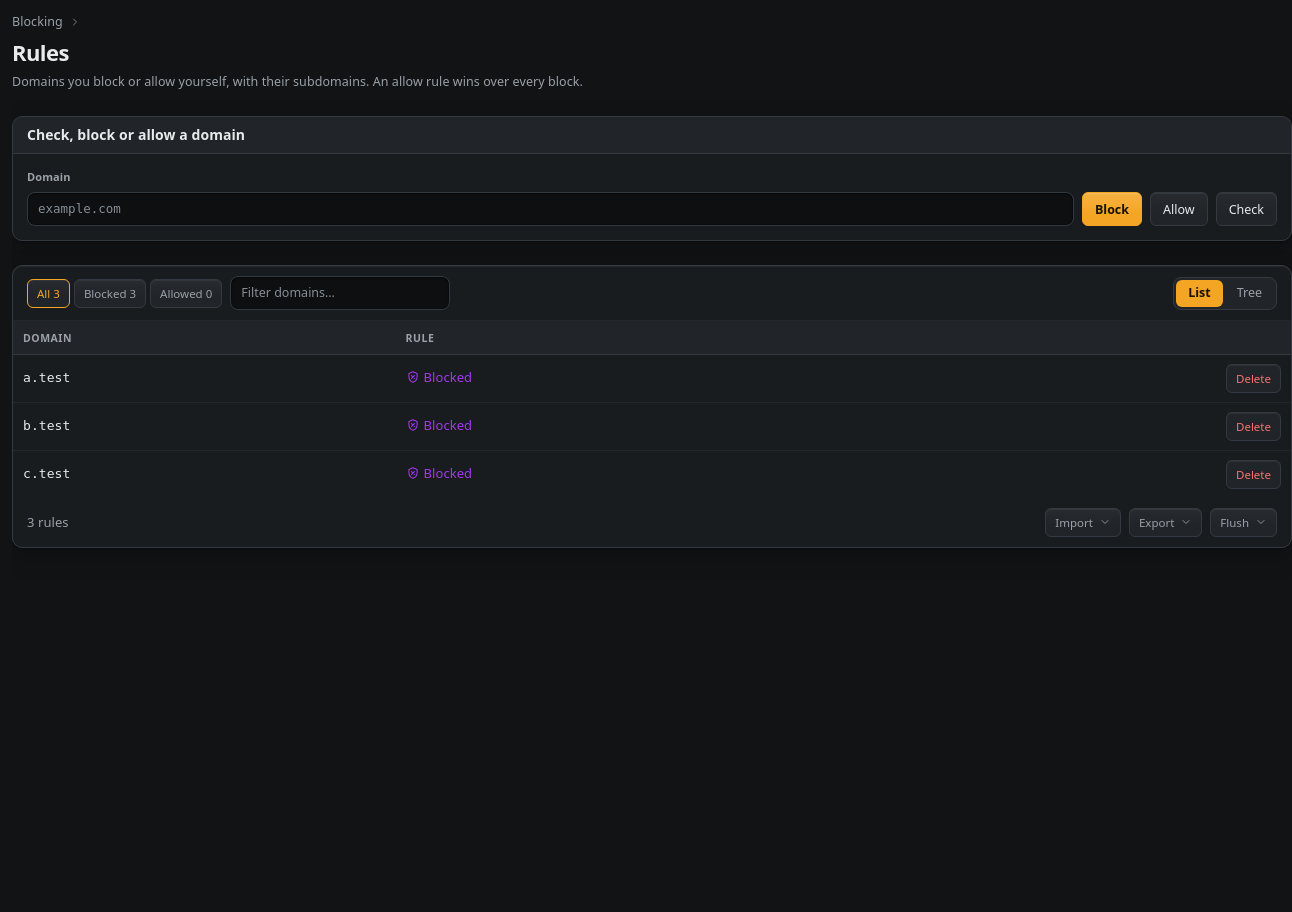
Test: Rules: Delete with Undo › an Undo that fails says which rules did not come back, and why
Click the button with aria-label "Delete a.test": (1254, 378) [1226, 364, 1281, 393]
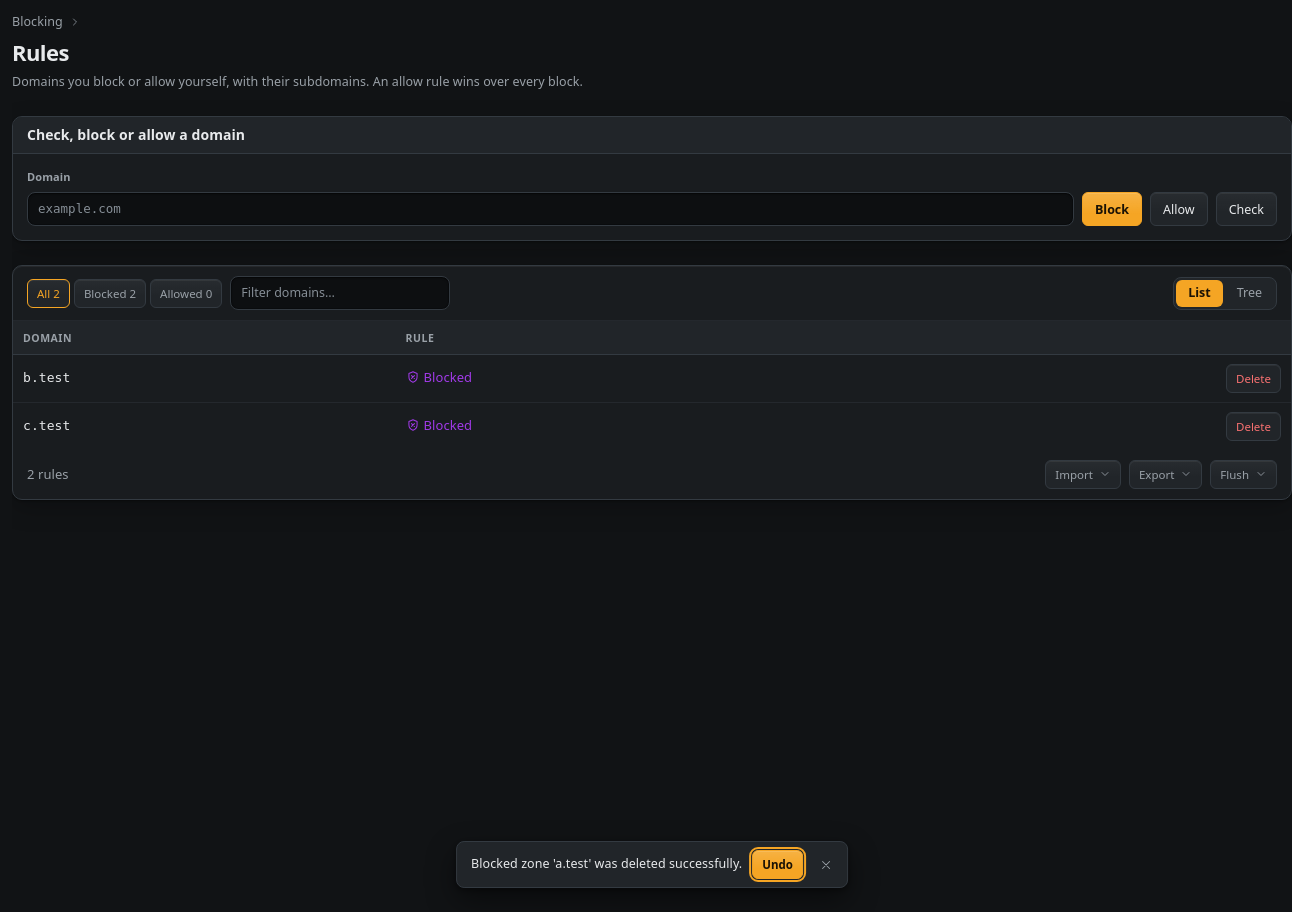
Click the button "Delete" in the row of "b.": (1254, 378) [1226, 364, 1281, 393]
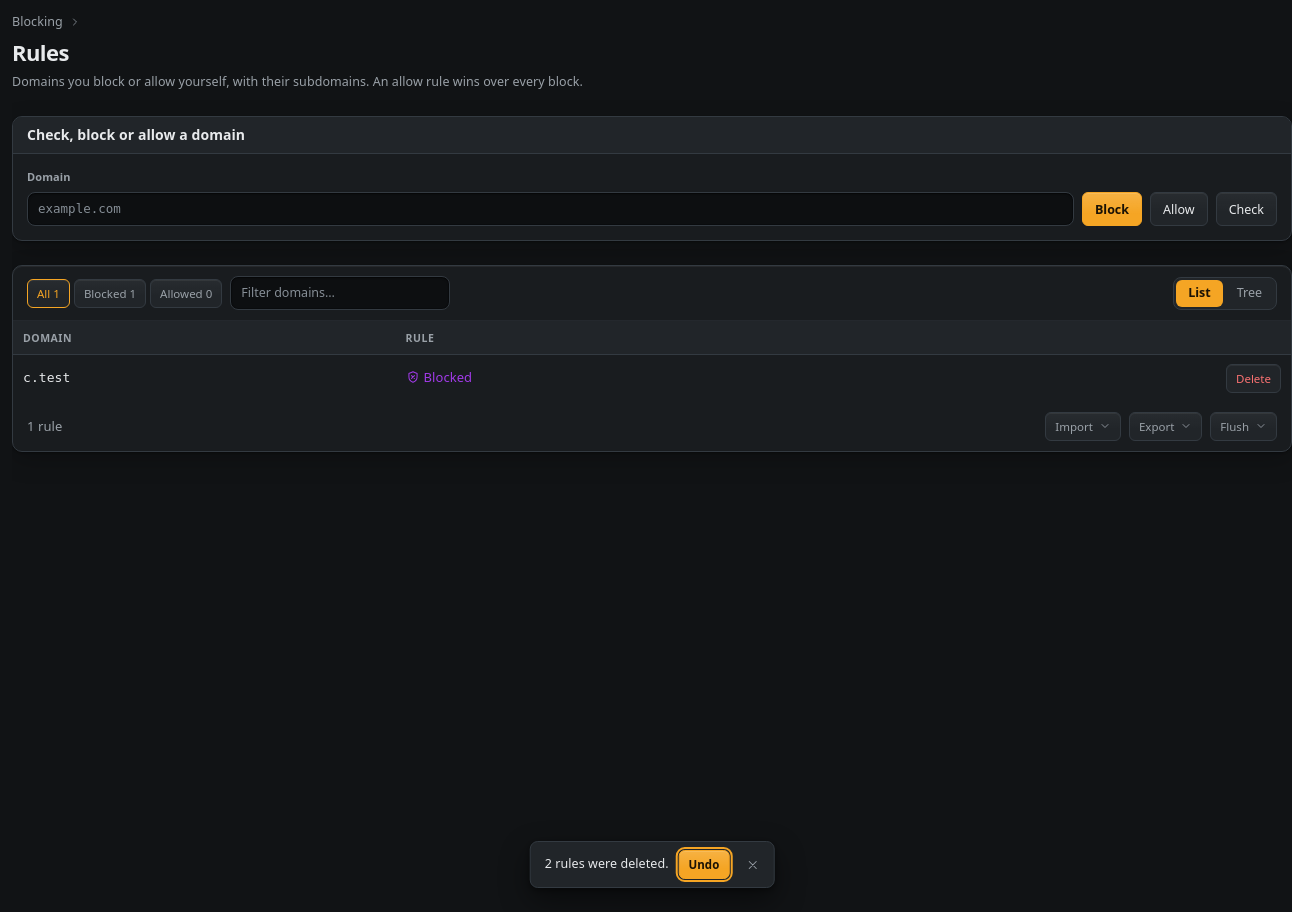
Click the button "Delete": (1254, 378) [1226, 364, 1281, 393]
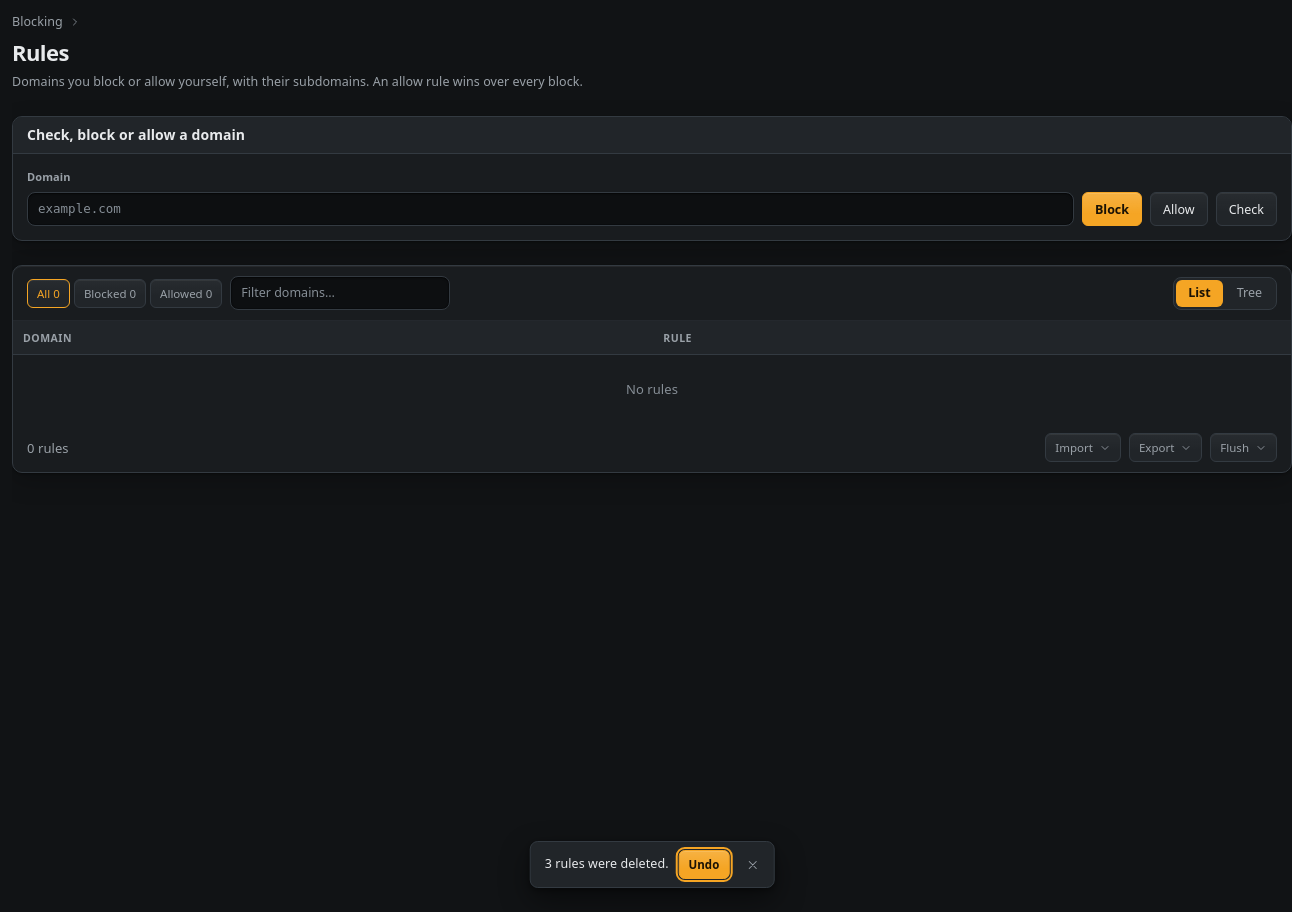
Click the button "Undo": (704, 864) [679, 850, 729, 879]
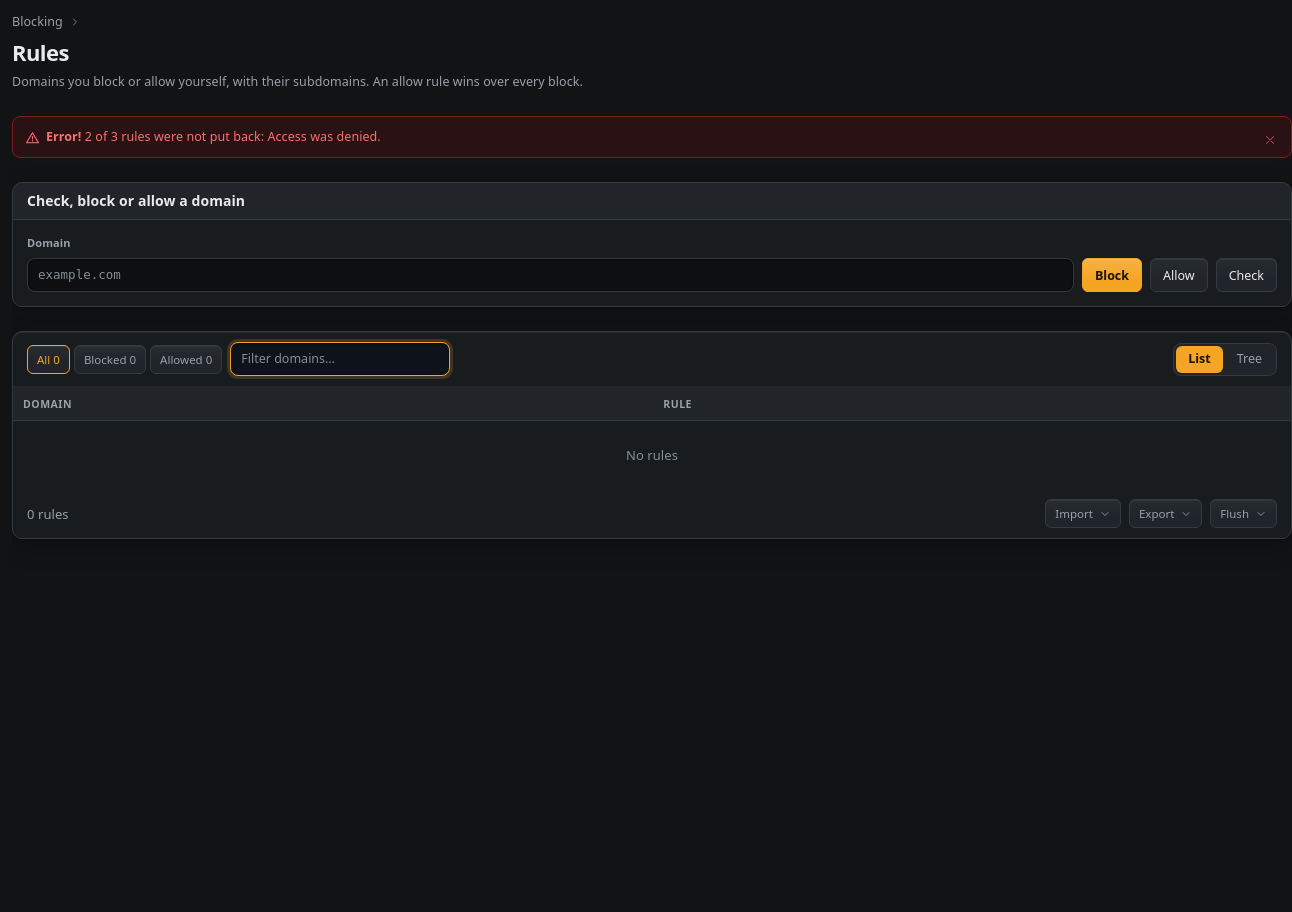
Expected: the text "2 of 3 rules were not put back: Access was denied." is shown, [85, 128, 381, 145]
